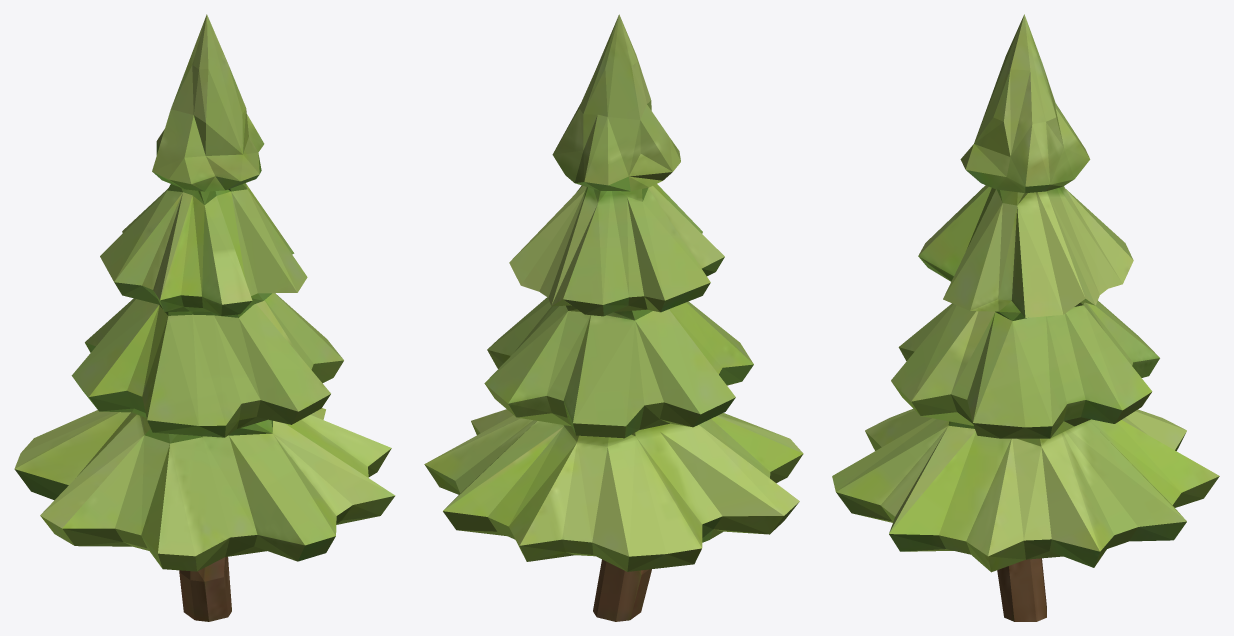
Rendered from tree_09.glb.
3 renders of one model, left to right at view 1: azimuth 30°, elevation 25°; view 2: azimuth 150°, elevation 25°; view 3: azimuth 270°, elevation 25°, orthographic.
Parts seen in each view (by area): view 1: _9_tree__9_tree_0; view 2: _9_tree__9_tree_0; view 3: _9_tree__9_tree_0.
Part boxes in pixels (x1,y1,x2,y2): _9_tree__9_tree_0: [14, 14, 395, 621]; _9_tree__9_tree_0: [424, 14, 803, 621]; _9_tree__9_tree_0: [832, 14, 1219, 621].
Bounding box in the file's own units: 6.4 × 11 × 6.46.
1 material, 1 textured.
